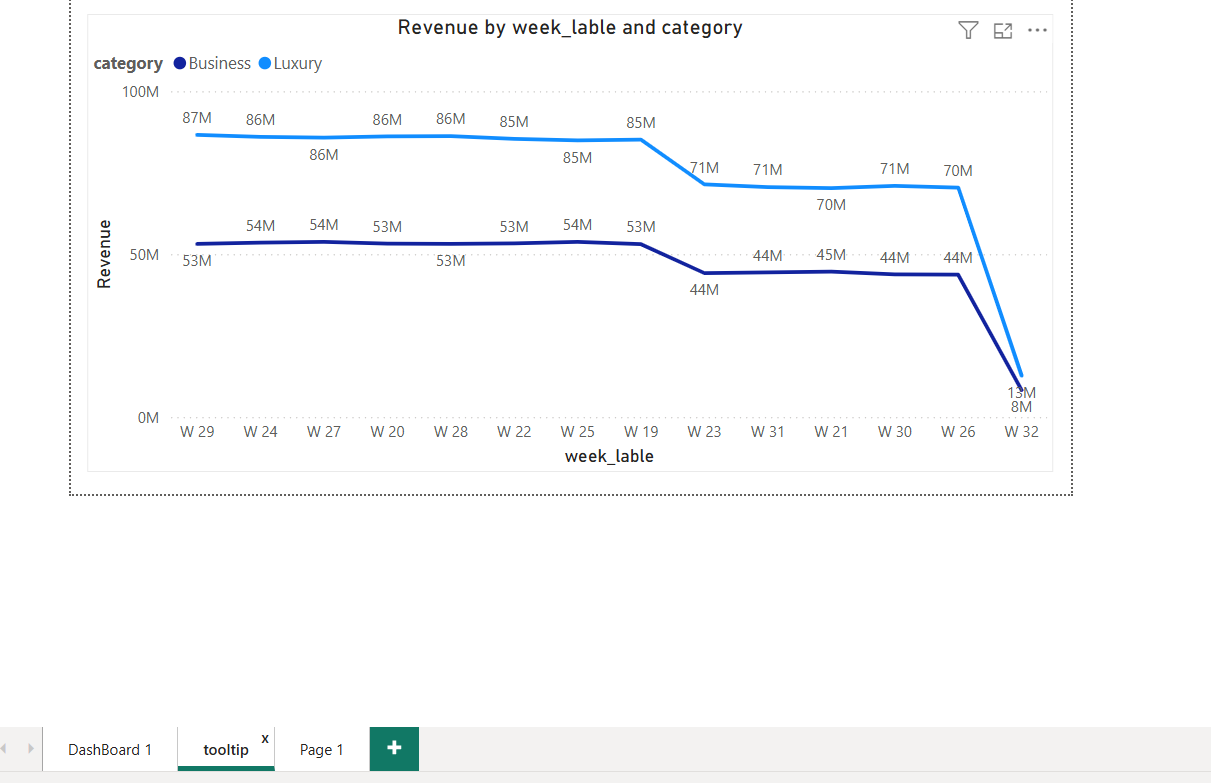

The page's visual inventory and layout, read from the dashboard file:
{"tool":"powerbi","page":{"name":"tooltip","canvas":[800,400],"ordinal":1},"visuals":[{"type":"lineChart","fields":{"Y":["Key_measures.Revenue"],"Category":["dim_date.week_lable"],"Series":["dim_hotels.category"]},"box":[13.3,15.6,772.2,367.8],"z":0}]}

Visuals, with their boxes on the page's 800x400 design canvas (x1, y1, x2, y2). These are canvas units, not pixel positions in the 1211x783 screenshot, which may show the page scaled, cropped or inside an application window:
lineChart - Key_measures.Revenue x dim_date.week_lable: region(13, 16, 786, 383)
